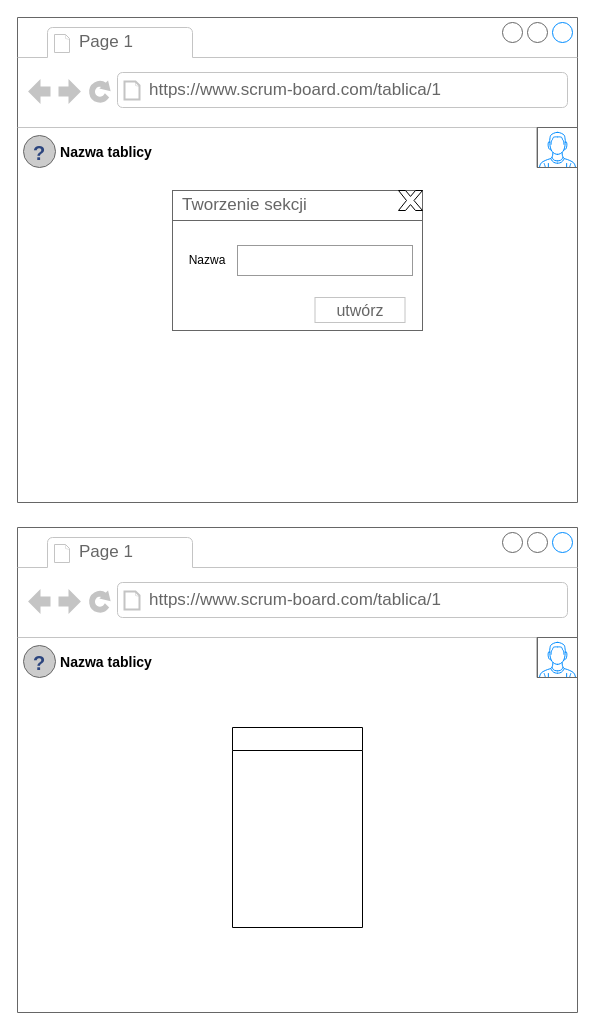
Image size: 595x1030. Some labels were removed from this diagram. The box of each missing label's shape, as (x1, y1, x2, y2) in pixels:
Nazwa sekcji: (232, 726, 362, 928)
przykładowa nazwa: (236, 244, 412, 276)
